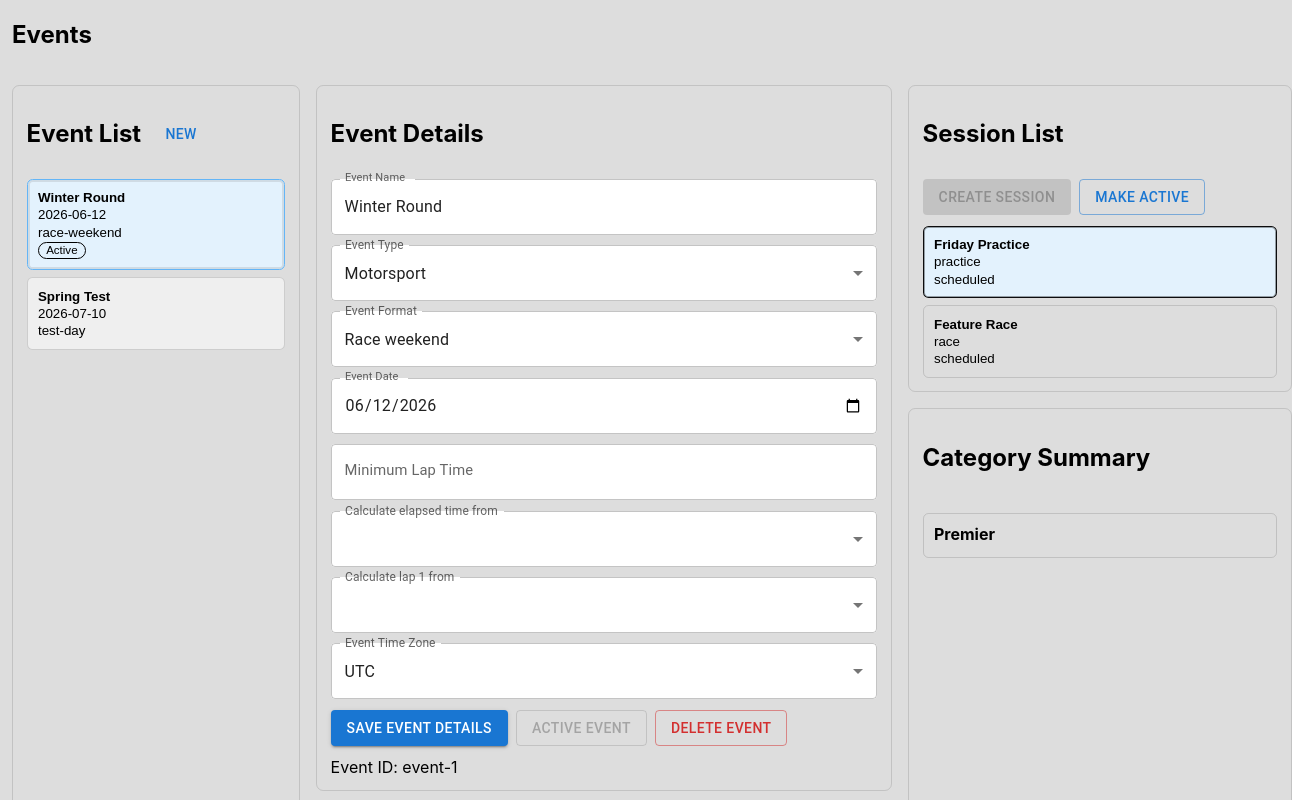
Test: EventsScreen integration › creates and selects a new event from the event list pane
Click the button "New". click: x=181, y=134
box: [149,99,213,168]
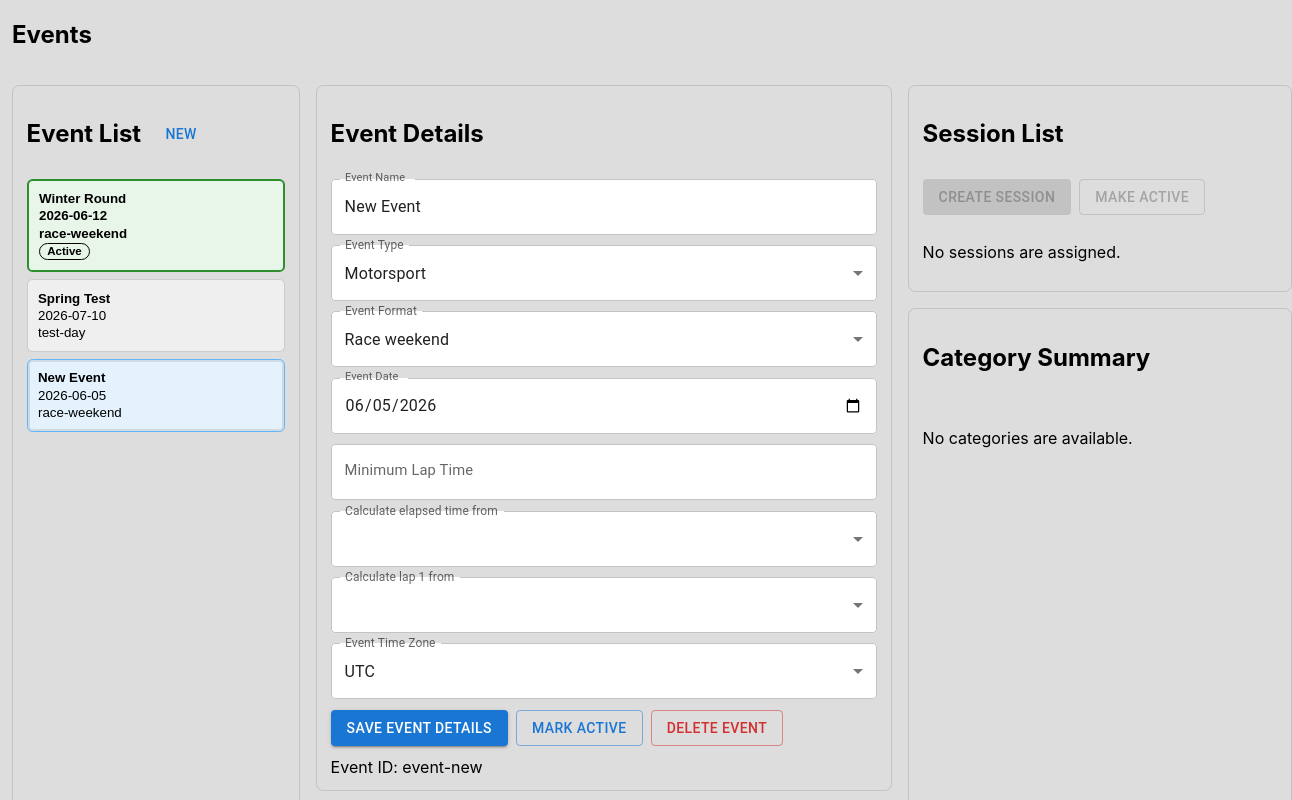
Check: the text "New Event" is shown, box [38,370,105,385]
Check: the field named "Event Name" holds "New Event", box [331,179,877,235]
